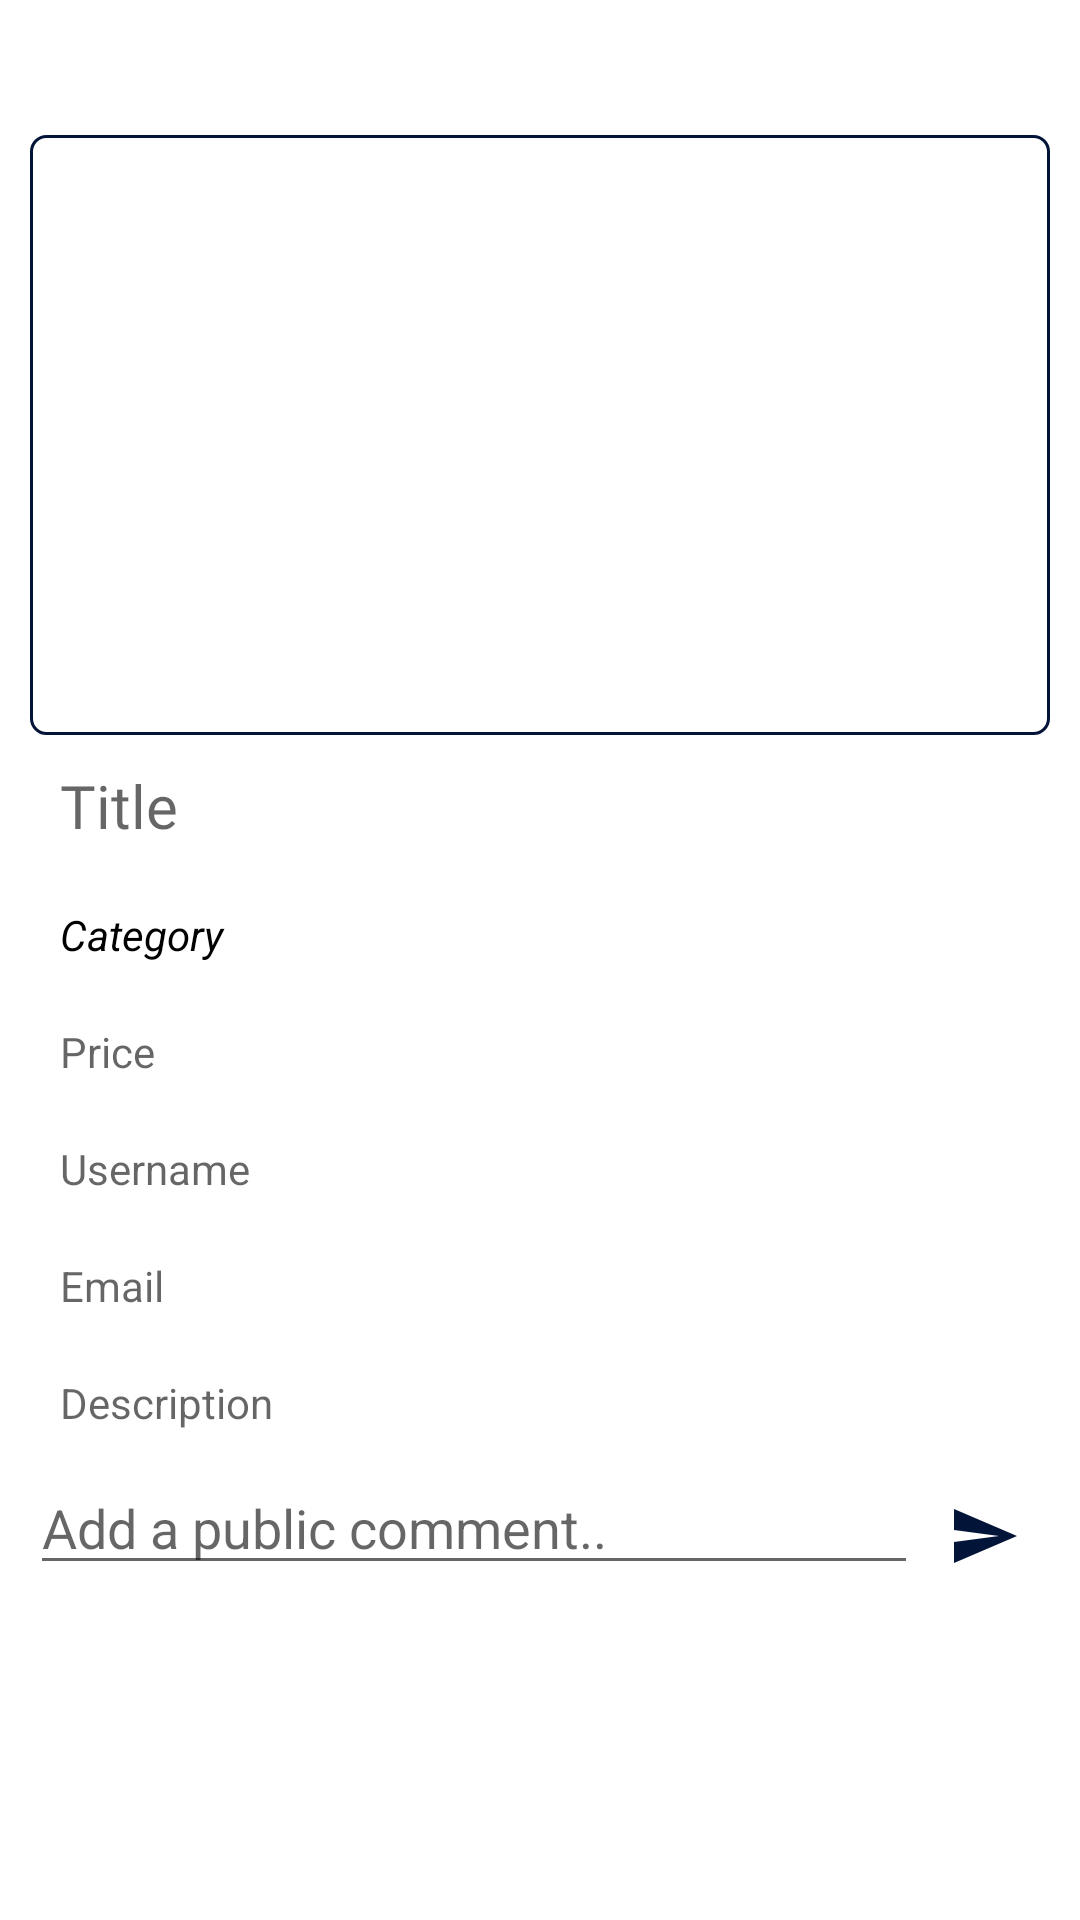

Icon bounding boxes for this 1080w x 1920h phone screenshot, format bbox=[x1, y1, x2, y2]:
send: bbox=[954, 1509, 1017, 1563]
